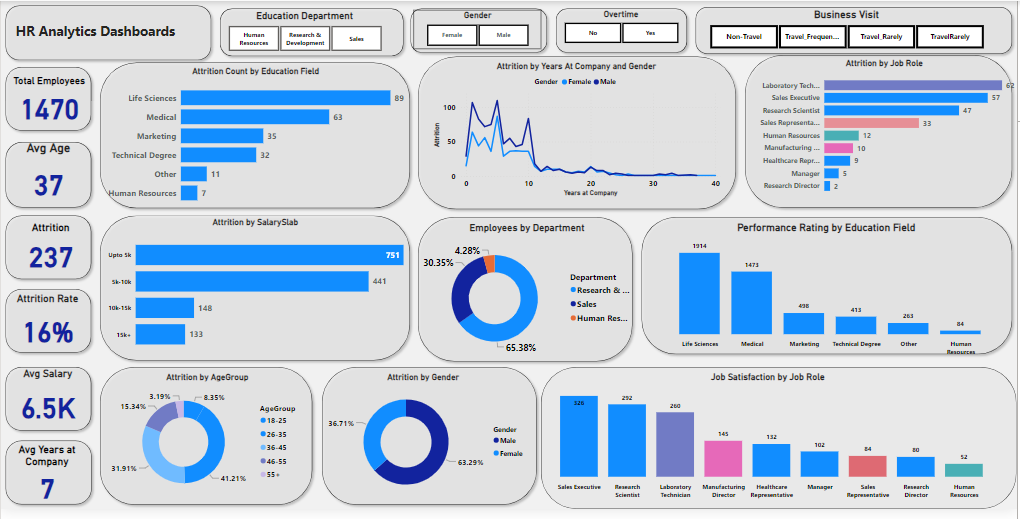

This screenshot's page, from the dashboard's own definition file:
{"tool":"powerbi","page":{"name":"Page 2","canvas":[2000,1000],"ordinal":1},"visuals":[{"type":"shape","box":[0,856.2,187.5,143.8],"z":0},{"type":"shape","box":[187.5,112.5,628.1,304.7],"z":1000},{"type":"clusteredBarChart","title":"Attrition Count by Education Field","fields":{"Category":["HR_Analytics.EducationField"],"Y":["Sum(HR_Analytics.Attrition Count)"]},"box":[203.1,126.6,595.3,285.9],"z":2000},{"type":"shape","box":[422.7,7,379,111.8],"z":3000},{"type":"shape","box":[798.3,7,286.5,104.8],"z":4000},{"type":"slicer","title":"Education Department","fields":{"Values":["HR_Analytics.Department"]},"box":[422.7,17.5,351.1,87.3],"z":5000},{"type":"shape","box":[187.5,414.1,628.1,303.1],"z":6000},{"type":"clusteredBarChart","title":" Attrition by SalarySlab","fields":{"Category":["HR_Analytics.SalarySlab"],"Y":["CountNonNull(HR_Analytics.Attrition)"]},"box":[204.7,425,593.8,278.1],"z":7000},{"type":"shape","box":[812.5,100,643.8,318.8],"z":8000},{"type":"lineChart","title":"Attrition by Years At Company and Gender","fields":{"Category":["HR_Analytics.YearsAtCompany"],"Y":["CountNonNull(HR_Analytics.Attrition)"],"Series":["HR_Analytics.Gender"]},"box":[845.3,117.2,576.6,271.9],"z":9000},{"type":"shape","box":[1456.2,98.4,543.8,318.8],"z":10000},{"type":"slicer","title":"Gender","fields":{"Values":["HR_Analytics.Gender"]},"box":[812.2,17.5,251.5,76.9],"z":11000},{"type":"shape","box":[0,0,422.7,125.8],"z":12000},{"type":"textbox","box":[24.5,34.9,368.6,54.1],"z":13000},{"type":"clusteredBarChart","title":"Attrition by Job Role","fields":{"Category":["HR_Analytics.JobRole"],"Y":["Sum(HR_Analytics.Attrition Count)"]},"box":[1475,112.5,525,276.6],"z":14000},{"type":"shape","box":[187.5,710.9,435.9,289.1],"z":15000},{"type":"donutChart","title":"Attrition by AgeGroup","fields":{"Series":["HR_Analytics.AgeGroup"],"Y":["CountNonNull(HR_Analytics.Attrition)"]},"box":[203.1,728.1,404.7,256.2],"z":16000},{"type":"shape","box":[623.4,710.9,440.6,289.1],"z":17000},{"type":"donutChart","title":"Attrition by Gender","fields":{"Y":["Sum(HR_Analytics.Attrition Count)"],"Category":["HR_Analytics.Gender"]},"box":[620.3,728.1,421.9,256.2],"z":18000},{"type":"shape","box":[1083,7,276,104.8],"z":19000},{"type":"slicer","title":"Overtime","fields":{"Values":["HR_Analytics.OverTime"]},"box":[1084.7,14,274.2,75.1],"z":20000},{"type":"shape","box":[1063.8,721.4,936.2,279.5],"z":21000},{"type":"columnChart","title":"Job Satisfaction by Job Role","fields":{"Category":["HR_Analytics.JobRole"],"Y":["CountNonNull(HR_Analytics.JobSatisfaction)"]},"box":[1042.2,728.1,934.4,257.8],"z":22000},{"type":"shape","box":[0,710.9,186.9,143.2],"z":23000},{"type":"shape","box":[0,559,186.9,143.2],"z":24000},{"type":"shape","box":[0,412.2,186.9,143.2],"z":25000},{"type":"shape","box":[0,122.3,186.9,143.2],"z":26000},{"type":"shape","box":[0,267.2,186.9,146.7],"z":27000},{"type":"card","title":"Total Employees","fields":{"Values":["Count(HR_Analytics.EmpID)"]},"box":[5.2,143.2,178.2,99.6],"z":28000},{"type":"card","title":"Avg Age","fields":{"Values":["HR_Analytics.Average Age"]},"box":[14,274.2,157.2,131],"z":29000},{"type":"card","title":"Attrition","fields":{"Values":["Sum(HR_Analytics.Attrition Count)"]},"box":[8.7,433.2,178.2,101.3],"z":30000},{"type":"card","title":"Attrition Rate","fields":{"Values":["HR_Analytics.Attrition Rate"]},"box":[15.7,572.9,153.7,117],"z":31000},{"type":"card","title":"Avg Salary","fields":{"Values":["HR_Analytics.Avg Salary"]},"box":[10.5,721.4,160.7,122.3],"z":32000},{"type":"card","title":"Avg Years at Company","fields":{"Values":["HR_Analytics.Avg years at Company"]},"box":[15.7,869.9,152,113.5],"z":33000},{"type":"shape","box":[812.2,417.5,440.2,302.2],"z":34000},{"type":"donutChart","title":" Employees  by Department","fields":{"Category":["HR_Analytics.Department"],"Y":["Sum(HR_Analytics.EmployeeCount)"]},"box":[817.5,433.2,434.9,277.7],"z":35000},{"type":"shape","box":[1252.4,417.5,747.6,288.2],"z":36000},{"type":"clusteredColumnChart","title":"Performance Rating by Education Field","fields":{"Category":["HR_Analytics.EducationField"],"Y":["Sum(HR_Analytics.PerformanceRating)"]},"box":[1273.4,433.2,703.9,272.5],"z":37000},{"type":"shape","box":[1359,3.5,641,110],"z":38000},{"type":"slicer","title":"Business Visit","fields":{"Values":["HR_Analytics.BusinessTravel"]},"box":[1371.2,14,588.6,85.6],"z":39000}]}

Visuals, with their boxes in screenshot pixels (x1, y1, x2, y2), scaled from the page's 2000x1000 canvas onto the 1020x519 screenshot:
shape: [left=0, top=444, right=96, bottom=518]
shape: [left=96, top=58, right=416, bottom=217]
"Attrition Count by Education Field" clusteredBarChart: [left=104, top=66, right=407, bottom=214]
shape: [left=216, top=4, right=409, bottom=62]
shape: [left=407, top=4, right=553, bottom=58]
"Education Department" slicer: [left=216, top=9, right=395, bottom=54]
shape: [left=96, top=215, right=416, bottom=372]
" Attrition by SalarySlab" clusteredBarChart: [left=104, top=221, right=407, bottom=365]
shape: [left=414, top=52, right=743, bottom=217]
"Attrition by Years At Company and Gender" lineChart: [left=431, top=61, right=725, bottom=202]
shape: [left=743, top=51, right=1019, bottom=217]
"Gender" slicer: [left=414, top=9, right=542, bottom=49]
shape: [left=0, top=0, right=216, bottom=65]
textbox: [left=12, top=18, right=200, bottom=46]
"Attrition by Job Role" clusteredBarChart: [left=752, top=58, right=1019, bottom=202]
shape: [left=96, top=369, right=318, bottom=518]
"Attrition by AgeGroup" donutChart: [left=104, top=378, right=310, bottom=511]
shape: [left=318, top=369, right=543, bottom=518]
"Attrition by Gender" donutChart: [left=316, top=378, right=532, bottom=511]
shape: [left=552, top=4, right=693, bottom=58]
"Overtime" slicer: [left=553, top=7, right=693, bottom=46]
shape: [left=543, top=374, right=1019, bottom=518]
"Job Satisfaction by Job Role" columnChart: [left=532, top=378, right=1008, bottom=512]
shape: [left=0, top=369, right=95, bottom=443]
shape: [left=0, top=290, right=95, bottom=364]
shape: [left=0, top=214, right=95, bottom=288]
shape: [left=0, top=63, right=95, bottom=138]
shape: [left=0, top=139, right=95, bottom=215]
"Total Employees" card: [left=3, top=74, right=94, bottom=126]
"Avg Age" card: [left=7, top=142, right=87, bottom=210]
"Attrition" card: [left=4, top=225, right=95, bottom=277]
"Attrition Rate" card: [left=8, top=297, right=86, bottom=358]
"Avg Salary" card: [left=5, top=374, right=87, bottom=438]
"Avg Years at Company" card: [left=8, top=451, right=86, bottom=510]
shape: [left=414, top=217, right=639, bottom=374]
" Employees  by Department" donutChart: [left=417, top=225, right=639, bottom=369]
shape: [left=639, top=217, right=1019, bottom=366]
"Performance Rating by Education Field" clusteredColumnChart: [left=649, top=225, right=1008, bottom=366]
shape: [left=693, top=2, right=1019, bottom=59]
"Business Visit" slicer: [left=699, top=7, right=999, bottom=52]
